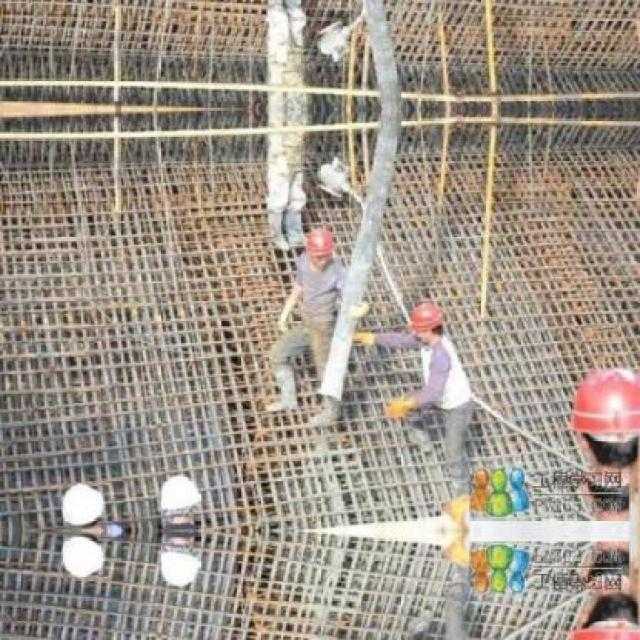helmet: (575, 358, 637, 469), (576, 591, 638, 638), (158, 470, 202, 527), (158, 533, 202, 590), (60, 478, 106, 528), (60, 532, 106, 582), (405, 296, 444, 341), (304, 224, 336, 268)
